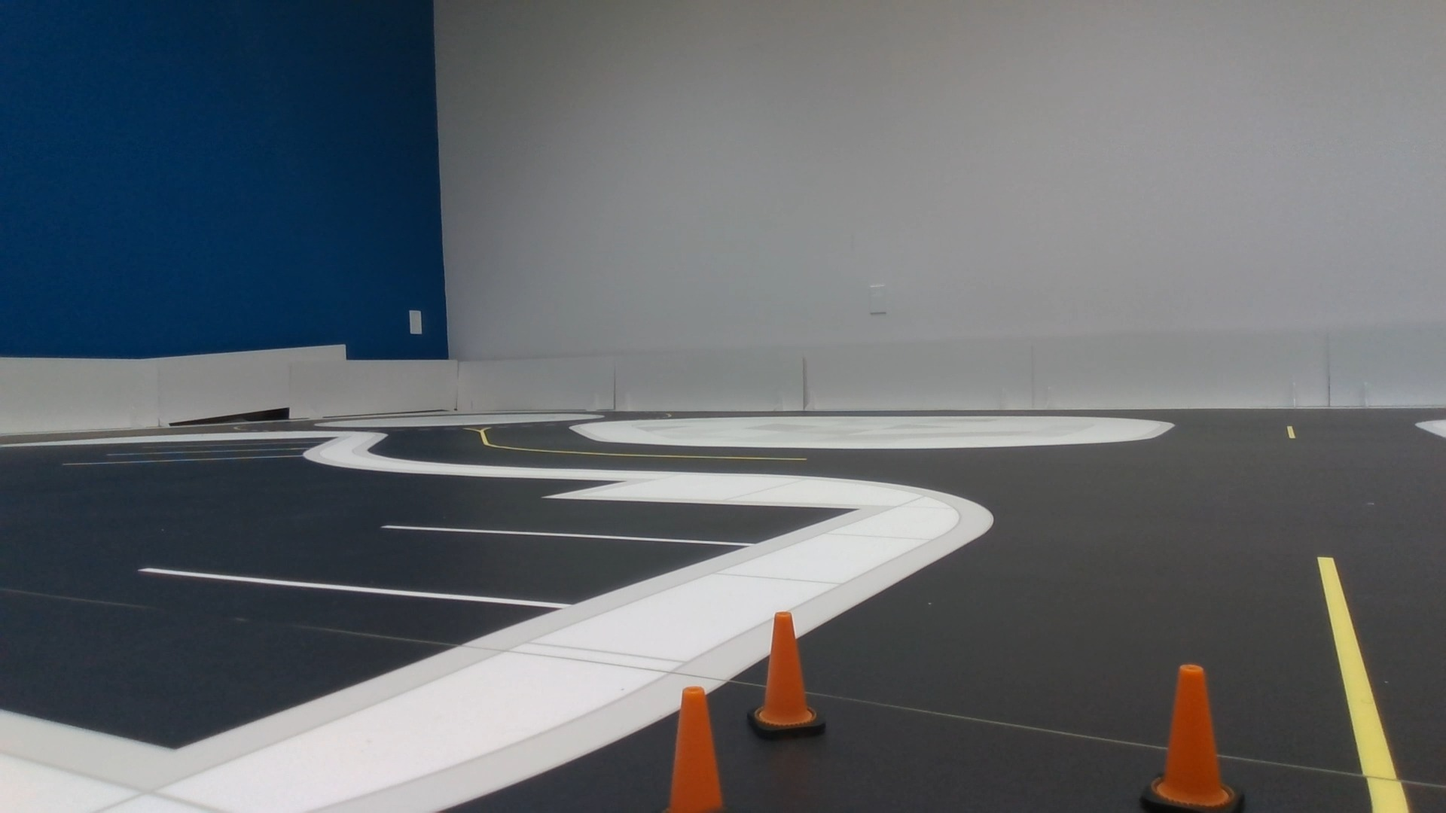Traffic Cone: (1141, 665, 1243, 812), (749, 611, 822, 738), (664, 687, 724, 812)
